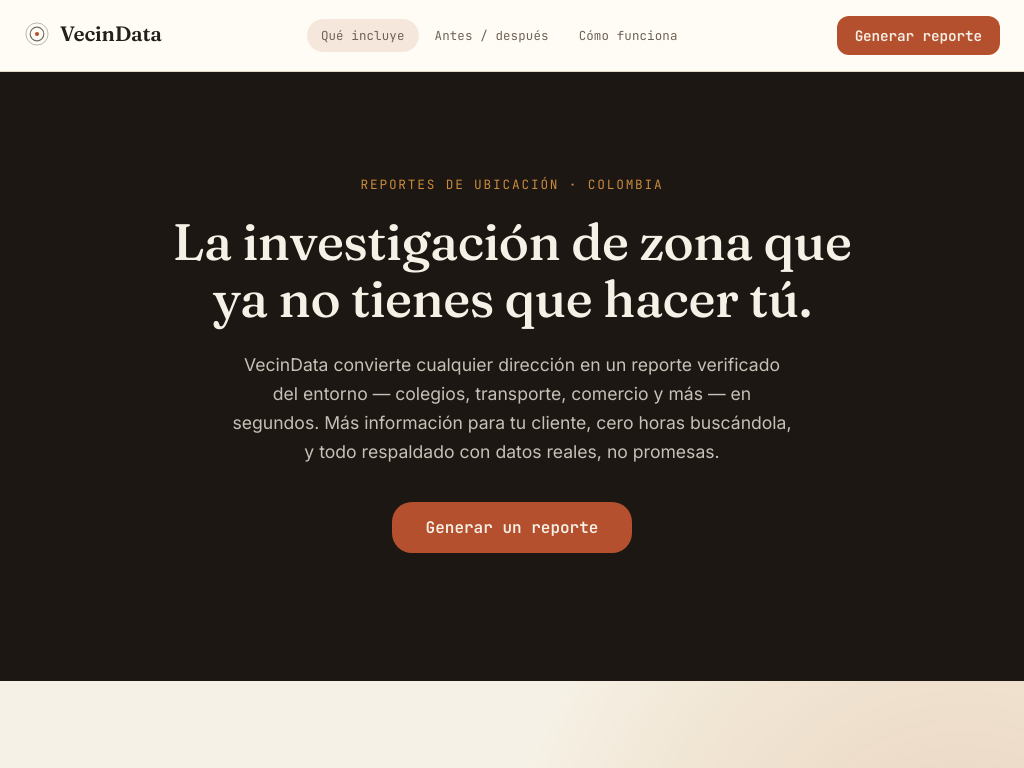
App › navigates to the operator page when the nav CTA is clicked, past the access gate
Step 1. Click the link "Generar reporte" → (918, 36), box [837, 16, 1000, 55]
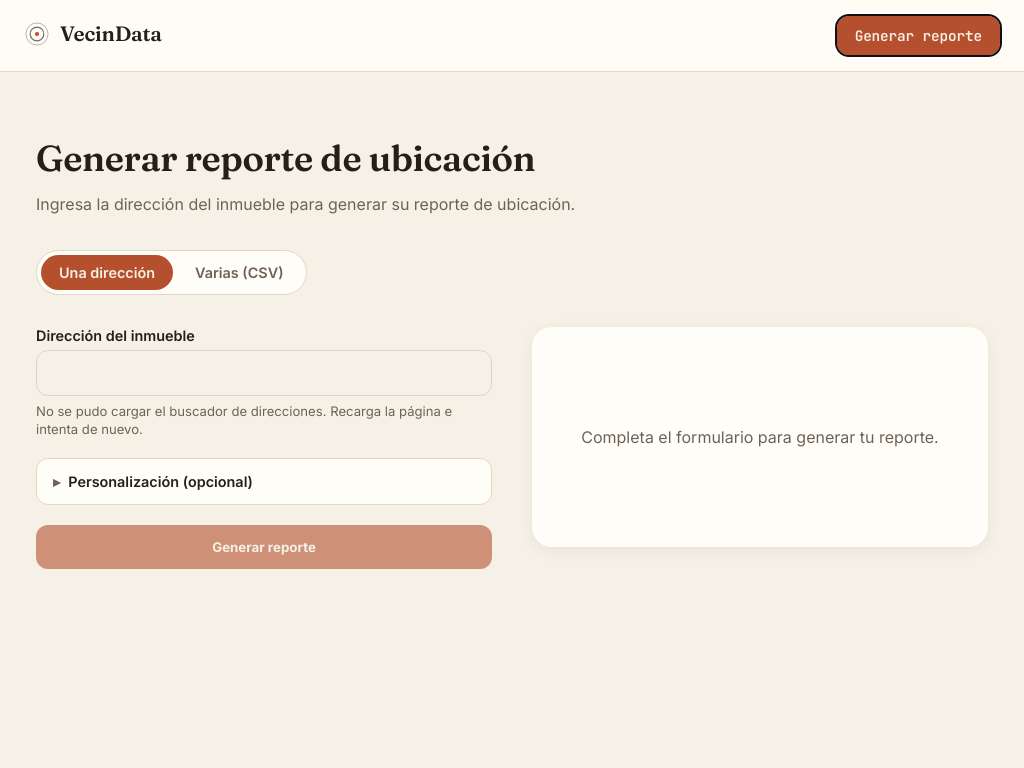
Expected: the heading "Generar reporte de ubicación" is shown, [36, 136, 535, 180]
